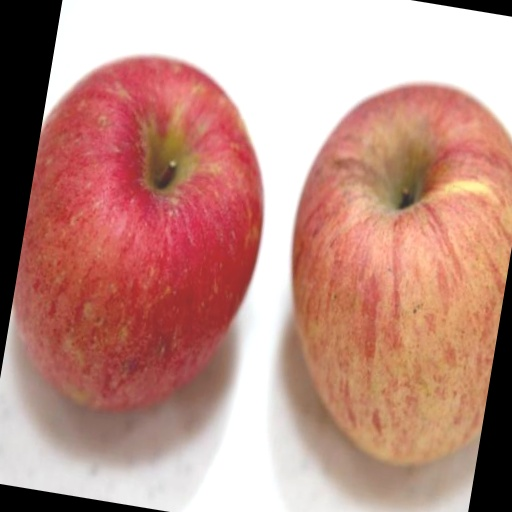fruit: (13, 57, 262, 409), (292, 85, 512, 464)
